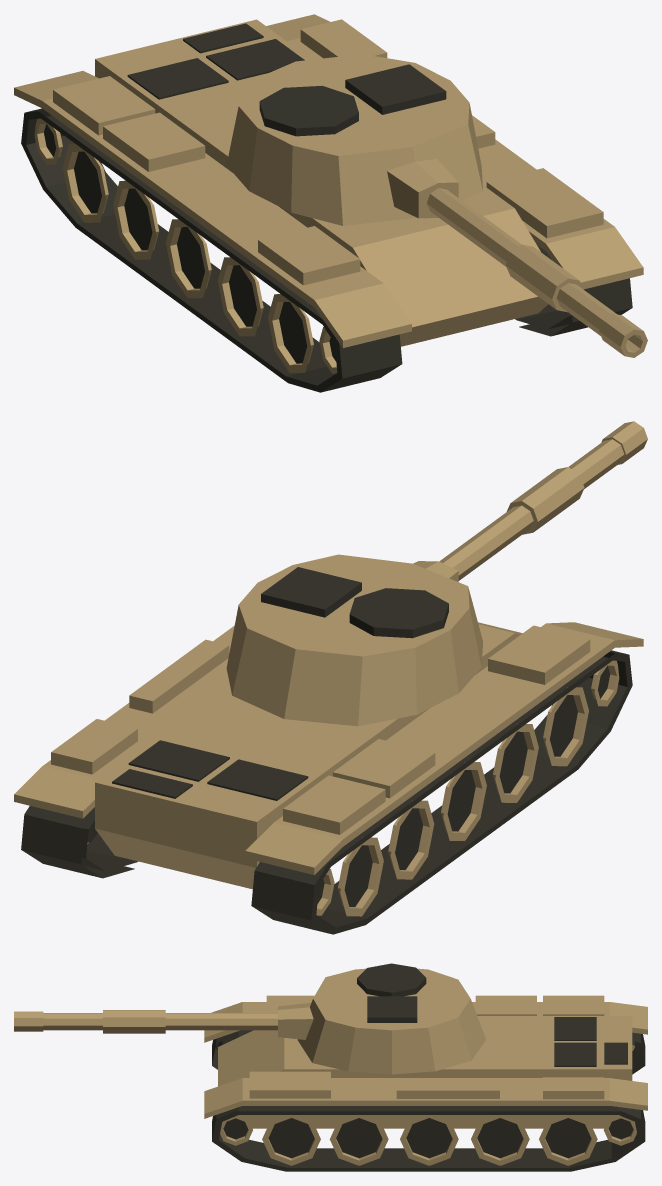
File: L2Tank.fbx
The picture shows the model from 3 angles, top to bottom: view 1: azimuth 30°, elevation 25°; view 2: azimuth 150°, elevation 25°; view 3: azimuth 270°, elevation 25°; orthographic projection. The views are drawn at different scales.
Parts seen in each view (by area): view 1: polySurface2, Turret; view 2: polySurface2, Turret; view 3: polySurface2, Turret.
Part boxes in pixels (x1,y1,x2,y2): polySurface2: (14,14,643,392); Turret: (226,54,647,357); polySurface2: (14,622,643,934); Turret: (226,421,647,726); polySurface2: (204,995,647,1171); Turret: (14,963,485,1074).
Bounding box in the file's own units: 19.94 × 12.32 × 54.03.
